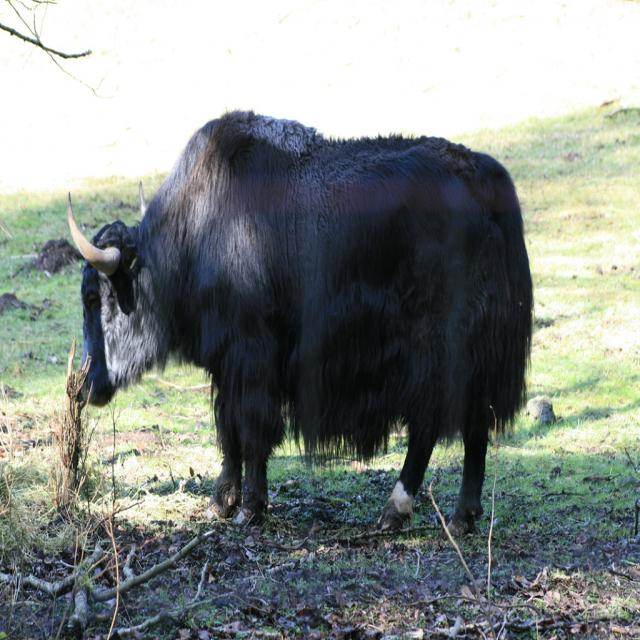Cattle: (66, 106, 536, 536)
